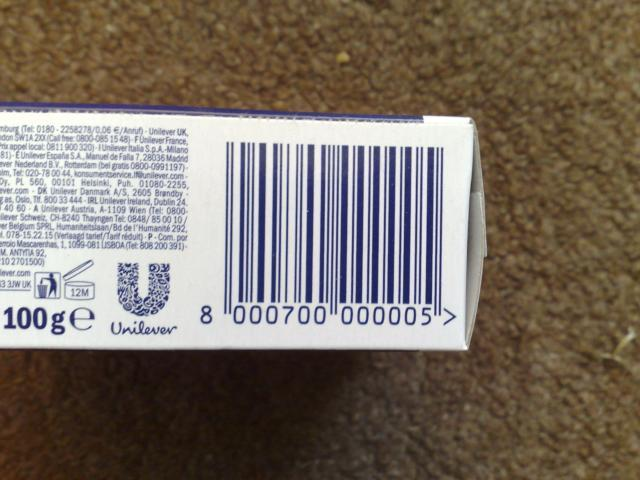Barcode: (192, 126, 461, 338)
